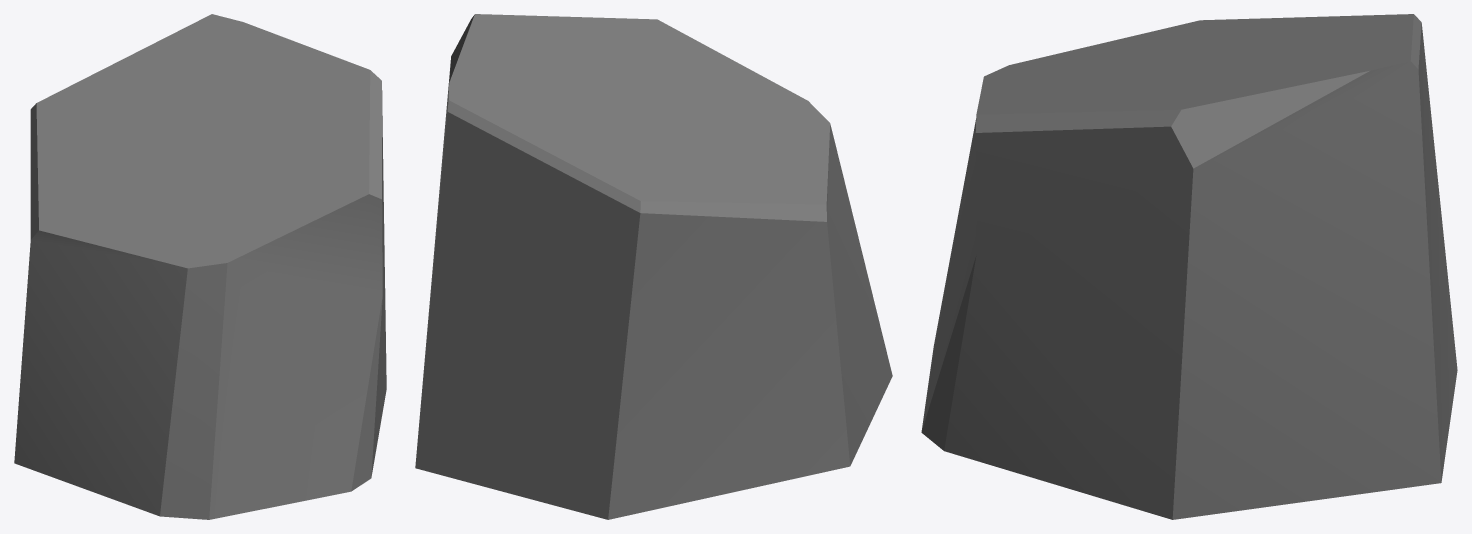
The model's file is rock12.fbx.
3 views of the same model, side by side, from view 1: azimuth 30°, elevation 25°; view 2: azimuth 150°, elevation 25°; view 3: azimuth 270°, elevation 25° (orthographic). The views are drawn at different scales.
Parts seen in each view (by area): view 1: rock14; view 2: rock14; view 3: rock14.
Part boxes in pixels (bbox=[...]): rock14: bbox=[14, 14, 386, 519]; rock14: bbox=[415, 14, 892, 519]; rock14: bbox=[921, 14, 1457, 519].
Size of the model in its own units: 1790 by 1537 by 1817.
1 material, 1 textured.
